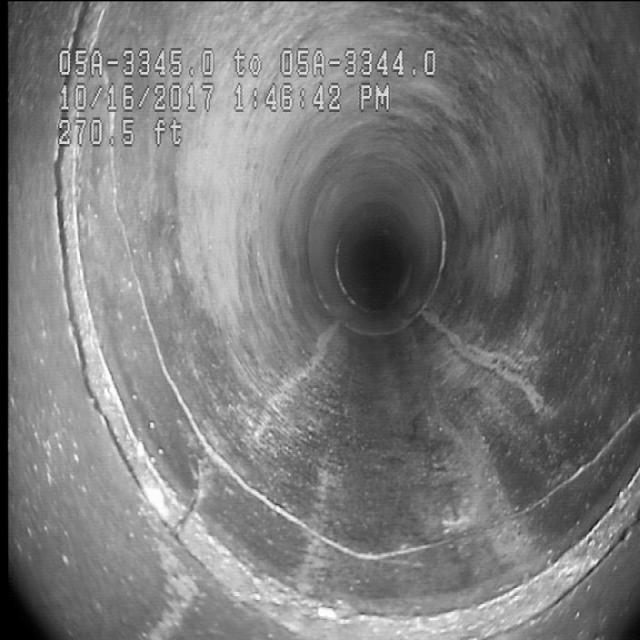Crack: (102, 175, 192, 454)
